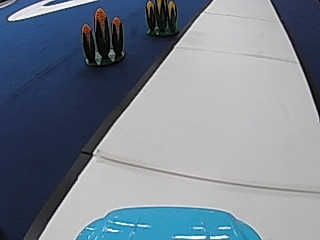corn: (80, 6, 127, 66), (143, 0, 179, 36)
